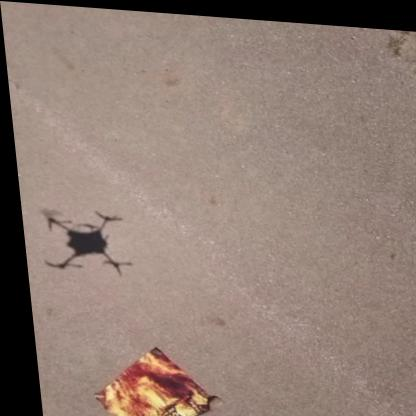fire-poster: (79, 340, 216, 416)
